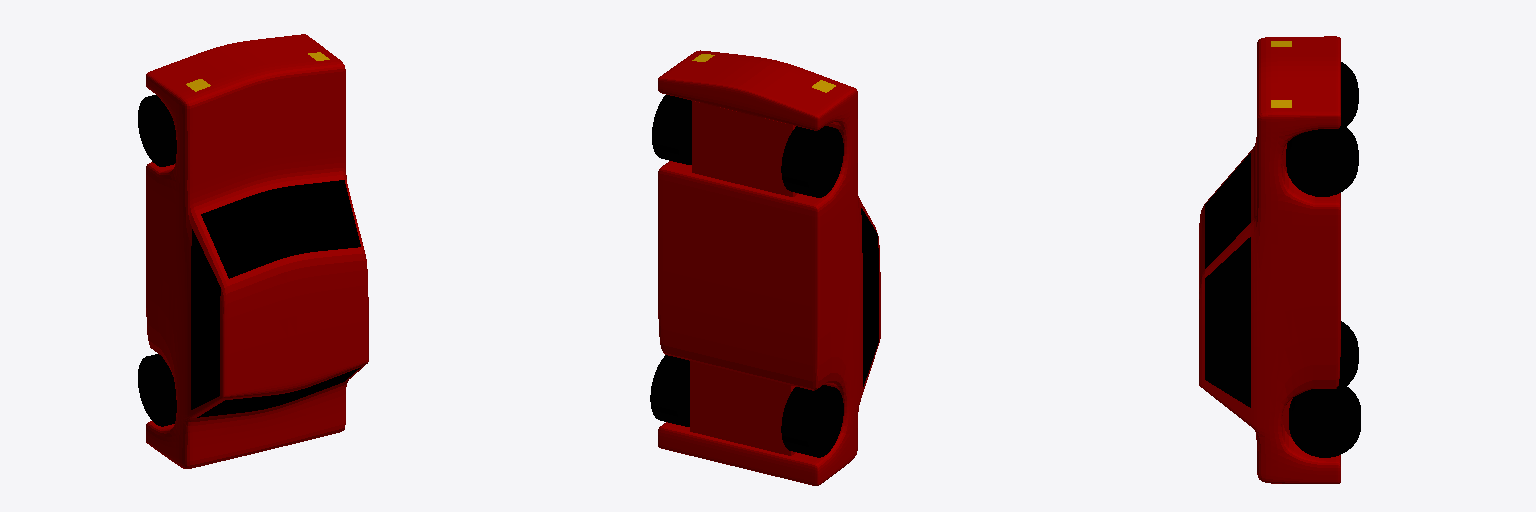
Rendered from car.obj.
3 views of the same model, side by side, from view 1: azimuth 30°, elevation 25°; view 2: azimuth 150°, elevation 25°; view 3: azimuth 270°, elevation 25° (orthographic).
Visible parts, largest first — view 1: Cube.001_Cube.002, wheel_Cylinder, wheel.001_Cylinder.001; view 2: Cube.001_Cube.002, wheel_Cylinder, wheel.001_Cylinder.001, wheel.003_Cylinder.003, wheel.002_Cylinder.002; view 3: Cube.001_Cube.002, wheel.003_Cylinder.003, wheel.002_Cylinder.002, wheel_Cylinder, wheel.001_Cylinder.001.
Part boxes in pixels (bbox=[...]): Cube.001_Cube.002: bbox=[146, 34, 368, 468]; wheel_Cylinder: bbox=[138, 354, 176, 426]; wheel.001_Cylinder.001: bbox=[138, 95, 176, 166]; Cube.001_Cube.002: bbox=[658, 50, 880, 485]; wheel_Cylinder: bbox=[781, 385, 843, 457]; wheel.001_Cylinder.001: bbox=[781, 126, 843, 197]; wheel.003_Cylinder.003: bbox=[650, 355, 689, 426]; wheel.002_Cylinder.002: bbox=[652, 95, 691, 164]; Cube.001_Cube.002: bbox=[1199, 36, 1340, 483]; wheel.003_Cylinder.003: bbox=[1289, 382, 1360, 457]; wheel.002_Cylinder.002: bbox=[1286, 124, 1358, 196]; wheel_Cylinder: bbox=[1339, 321, 1358, 385]; wheel.001_Cylinder.001: bbox=[1341, 62, 1358, 126].
Size of the model in its own units: 1.6 by 3.58 by 1.39.